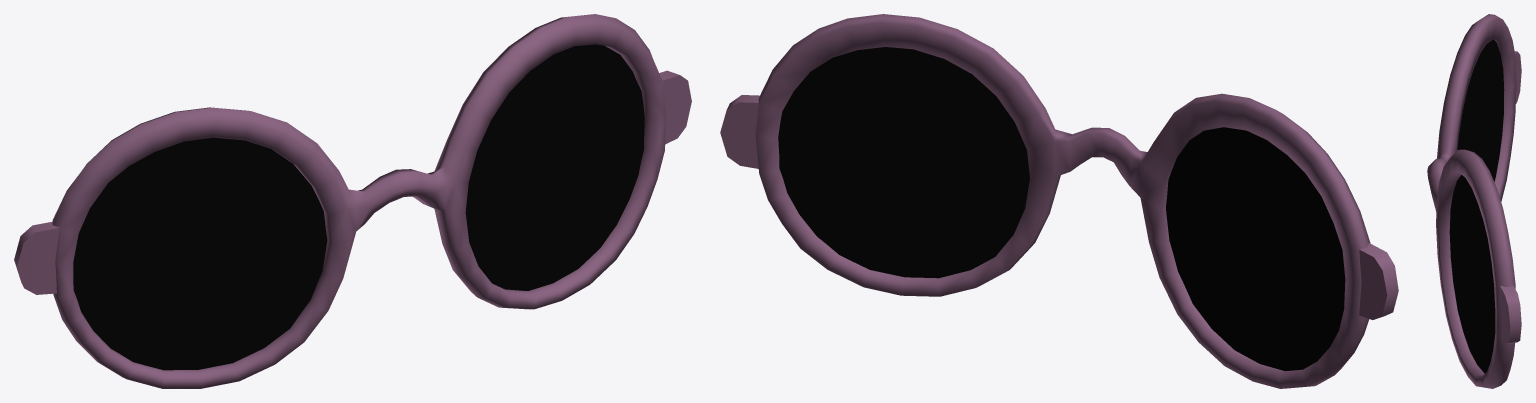
Rendered from AccessoryGlassCircle4.glb.
3 renders of one model, left to right at view 1: azimuth 30°, elevation 25°; view 2: azimuth 150°, elevation 25°; view 3: azimuth 270°, elevation 25°, orthographic. The views are drawn at different scales.
Parts seen in each view (by area): view 1: AccessoryAlpha1__mAccessoryAlpha, Accessory__mAccessory; view 2: AccessoryAlpha1__mAccessoryAlpha, Accessory__mAccessory; view 3: Accessory__mAccessory, AccessoryAlpha1__mAccessoryAlpha.
Boxes of the visible parts, x1=… form: AccessoryAlpha1__mAccessoryAlpha: x1=73, y1=44, x2=644, y2=370; Accessory__mAccessory: x1=14, y1=14, x2=691, y2=388; AccessoryAlpha1__mAccessoryAlpha: x1=778, y1=47, x2=1345, y2=371; Accessory__mAccessory: x1=720, y1=14, x2=1398, y2=388; Accessory__mAccessory: x1=1427, y1=14, x2=1521, y2=388; AccessoryAlpha1__mAccessoryAlpha: x1=1449, y1=39, x2=1504, y2=373.
Bounding box in the file's own units: 6.21 × 2.44 × 0.9632.
Materials: 2 (2 with a texture image).
